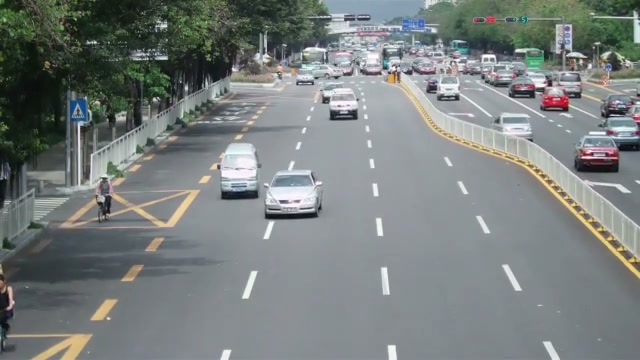car: (263, 169, 324, 219), (218, 142, 261, 199), (573, 134, 620, 172), (599, 116, 640, 150), (491, 112, 534, 142), (328, 89, 359, 120), (600, 94, 635, 118), (539, 87, 570, 111), (554, 72, 582, 98), (437, 76, 460, 101), (508, 79, 536, 99), (296, 73, 315, 86), (426, 78, 439, 92)
pedestrian: (0, 273, 16, 345), (95, 176, 113, 214)
